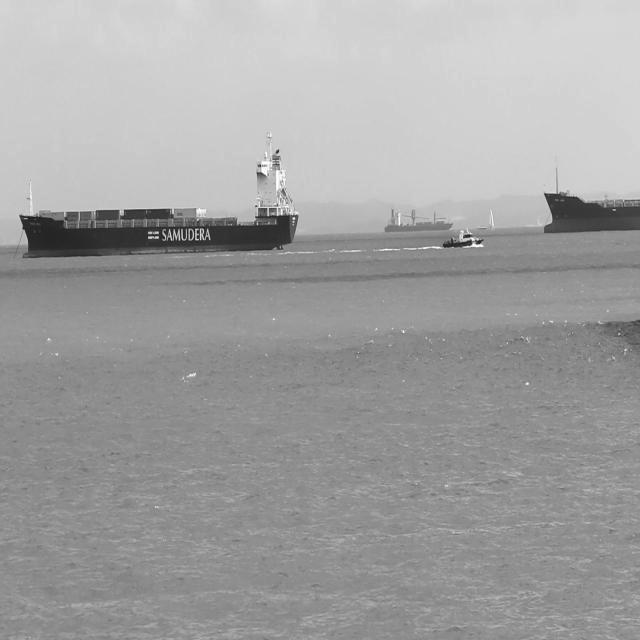ship: (18, 129, 300, 259), (544, 158, 640, 234), (383, 206, 454, 233), (442, 228, 484, 250), (488, 207, 494, 231), (476, 224, 486, 231)
